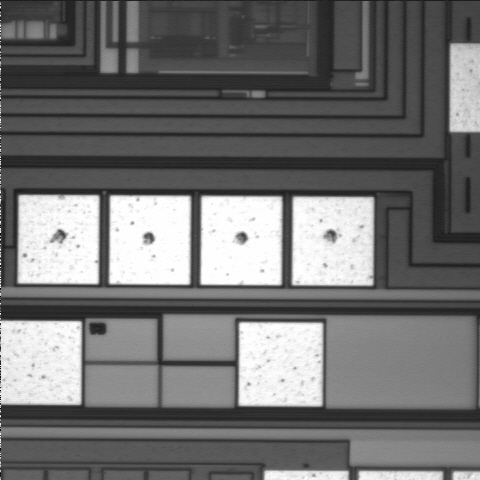pad: (109, 195, 191, 285), (200, 196, 282, 285), (292, 197, 374, 286), (18, 195, 99, 284), (239, 322, 323, 406)
